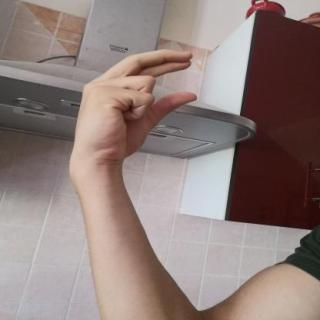DHELL: (63, 42, 207, 170)
